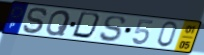0: (156, 20, 179, 49)
5: (131, 18, 156, 46)
D: (70, 11, 104, 41)
Q: (44, 10, 72, 37)
S: (21, 6, 50, 35), (99, 16, 127, 43)
